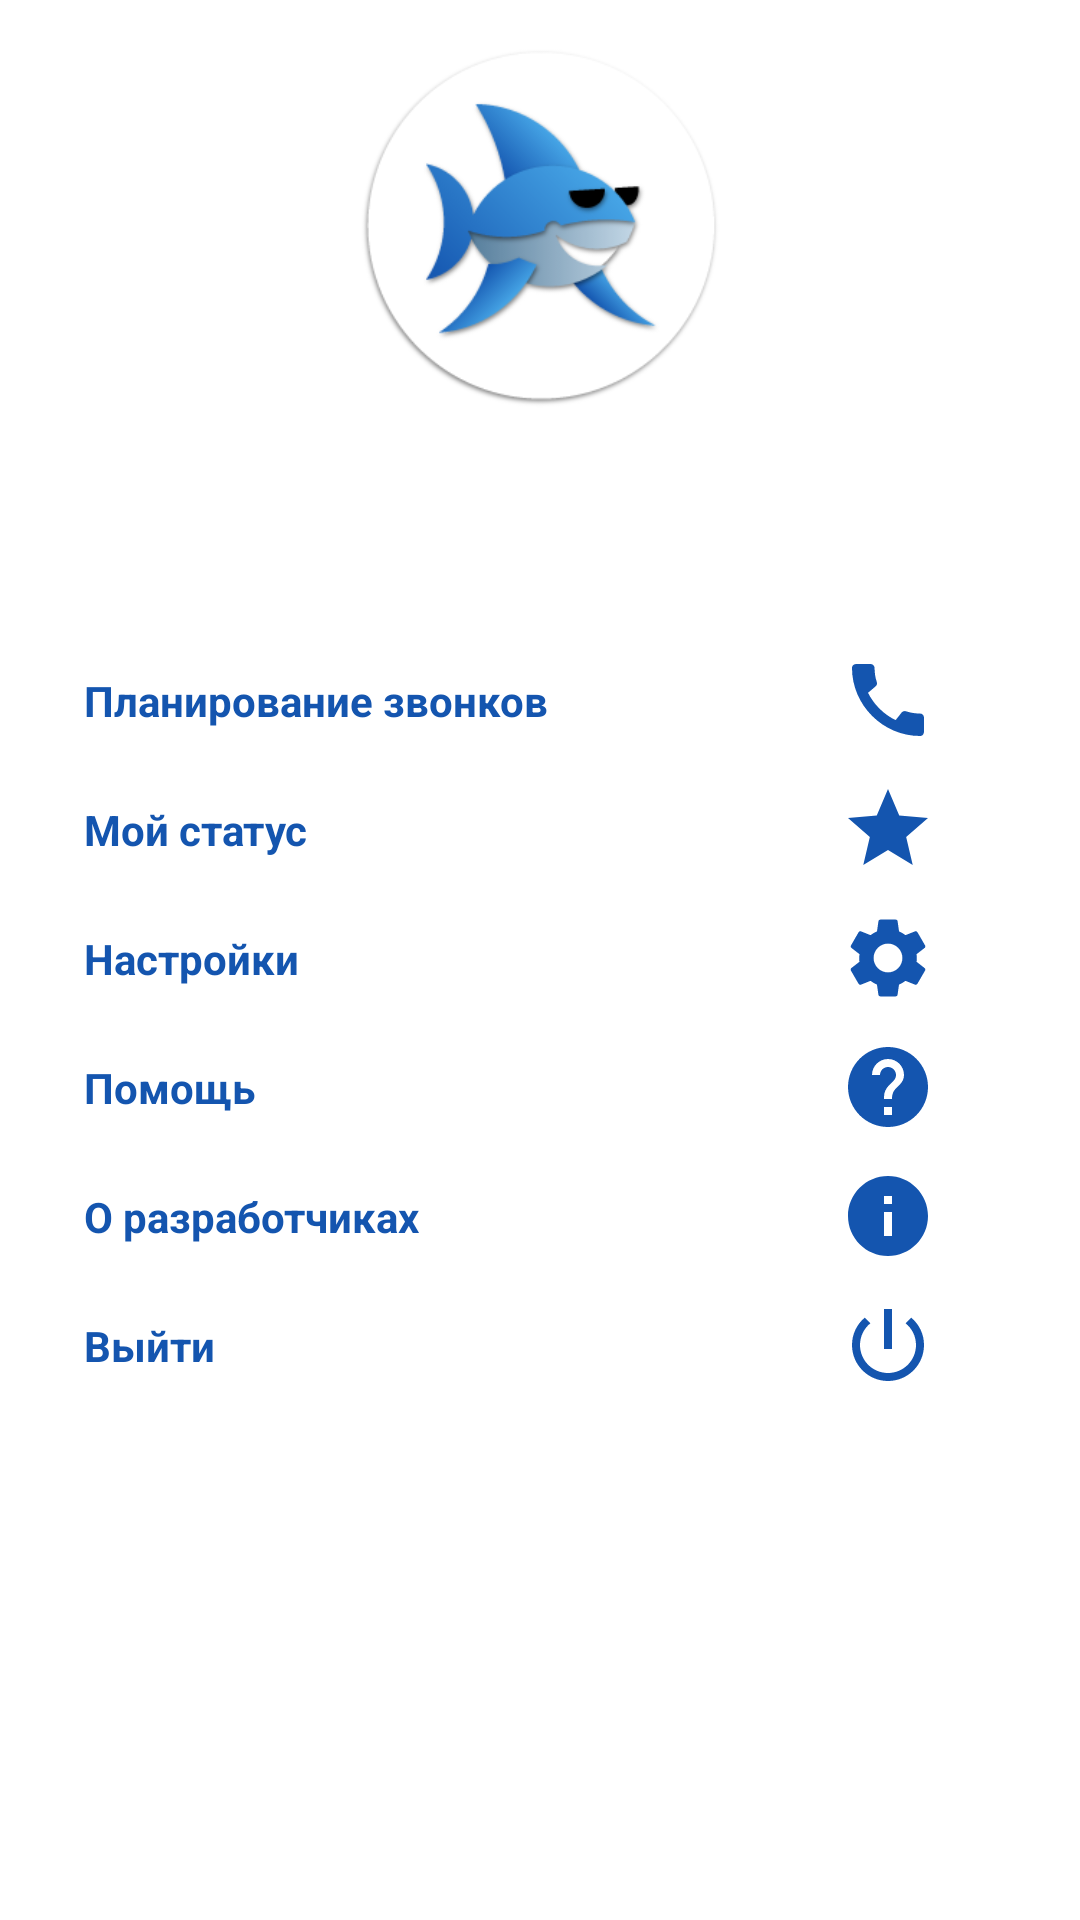

Where icons sit on this 1080px×1920px app screen, as (x1, y1, x2, y2):
about us: (848, 1176, 928, 1256)
help: (848, 1047, 928, 1127)
later call: (852, 664, 924, 736)
settings: (850, 919, 926, 997)
